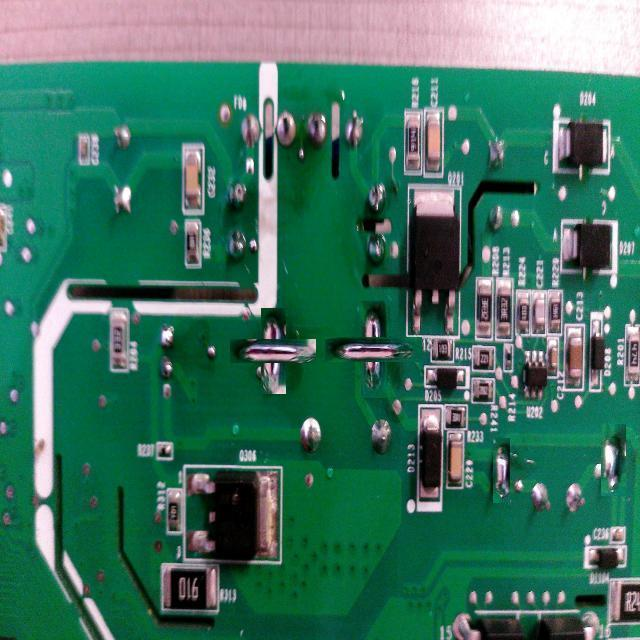Short_circuit: (343, 319, 405, 380), (246, 323, 301, 379), (601, 424, 626, 496), (492, 438, 510, 503)
